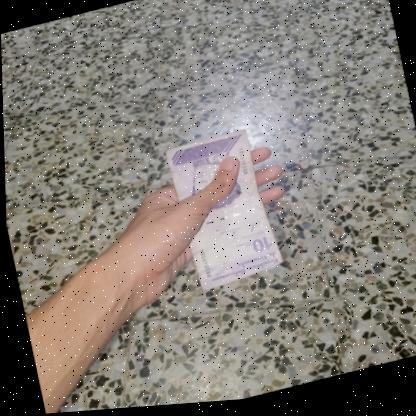ten-front-vef: (160, 129, 282, 297)
